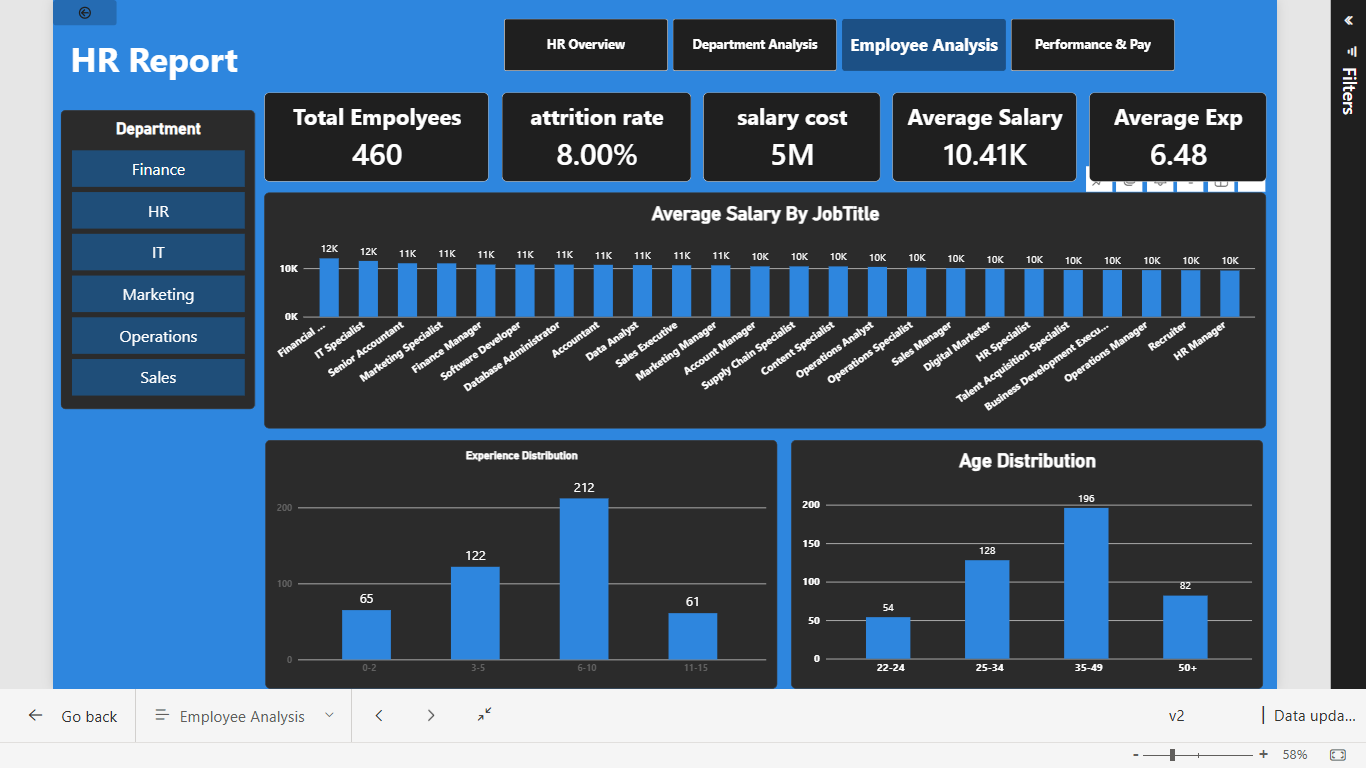

This screenshot's page, from the dashboard's own definition file:
{"tool":"powerbi","page":{"name":"Employee Analysis","canvas":[1920,1080],"ordinal":2},"visuals":[{"type":"enlightenSlicerB18DC0CE4A1F4BA79CE49FBE40F3965F","fields":{"category":["HR.Department"]},"box":[12.8,172.2,304.9,468.7],"z":0},{"type":"textbox","box":[27.7,55.4,277.2,83.1],"z":1000},{"type":"cardVisual","fields":{"Data":["HR.salary cost"]},"box":[1019.4,144.6,278.5,140.3],"z":4000},{"type":"cardVisual","fields":{"Data":["HR.attrition rate"]},"box":[703.2,144.6,297.6,140.3],"z":5000},{"type":"cardVisual","fields":{"Data":["HR.active employees"]},"box":[331.7,144.6,352.9,140.3],"z":6000},{"type":"columnChart","title":"Average Salary By JobTitle","fields":{"Category":["HR.JobTitle"],"Y":["HR.avrage salary"]},"box":[331.7,301.9,1571.1,369.9],"z":7000},{"type":"pageNavigator","box":[707.5,30,1055,82.5],"z":8000},{"type":"columnChart","title":"Experience Distribution","fields":{"Category":["HR.Experience Bucket"],"Y":["HR.active employees"]},"box":[332.5,690,802.5,390],"z":9000},{"type":"columnChart","title":"Age Distribution","fields":{"Category":["HR.age range"],"Y":["HR.active employees"]},"box":[1157.5,690,740,390],"z":10000},{"type":"actionButton","box":[0,0,100,40],"z":11000},{"type":"cardVisual","fields":{"Data":["HR.avrage exp"]},"box":[1624.3,144.6,278.5,140.3],"z":11001},{"type":"cardVisual","fields":{"Data":["HR.avrage salary"]},"box":[1316.5,144.6,289.1,140.3],"z":11002}]}

Visuals, with their boxes on the page's 1920x1080 design canvas (x1, y1, x2, y2). These are canvas units, not pixel positions in the 1366x768 screenshot, which may show the page scaled, cropped or inside an application window:
enlightenSlicerB18DC0CE4A1F4BA79CE49FBE40F3965F - HR.Department: bbox(13, 172, 318, 641)
textbox: bbox(28, 55, 305, 138)
cardVisual - HR.salary cost: bbox(1019, 145, 1298, 285)
cardVisual - HR.attrition rate: bbox(703, 145, 1001, 285)
cardVisual - HR.active employees: bbox(332, 145, 685, 285)
"Average Salary By JobTitle" columnChart: bbox(332, 302, 1903, 672)
pageNavigator: bbox(708, 30, 1762, 112)
"Experience Distribution" columnChart: bbox(332, 690, 1135, 1080)
"Age Distribution" columnChart: bbox(1158, 690, 1898, 1080)
actionButton: bbox(0, 0, 100, 40)
cardVisual - HR.avrage exp: bbox(1624, 145, 1903, 285)
cardVisual - HR.avrage salary: bbox(1316, 145, 1606, 285)
